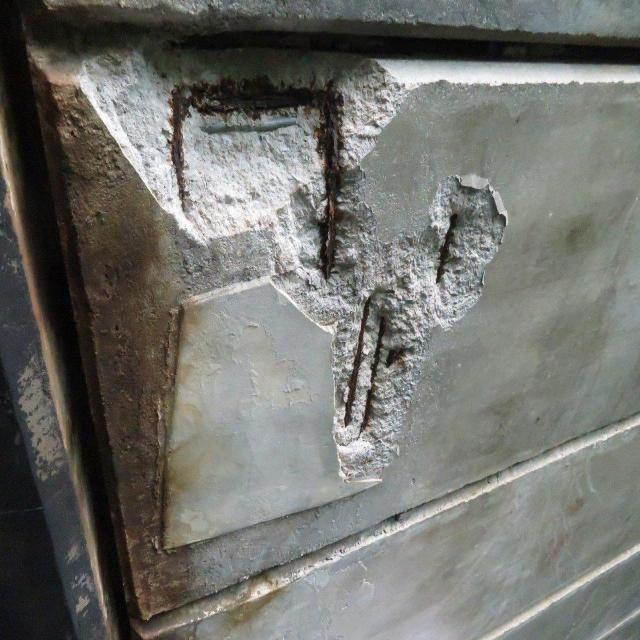Rebar: (76, 44, 510, 482)
